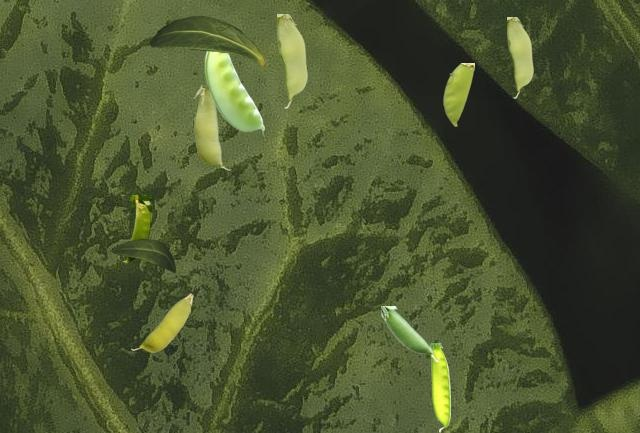pea: (204, 52, 263, 136), (131, 293, 192, 351), (193, 85, 230, 169), (381, 306, 438, 360), (277, 14, 306, 107), (507, 17, 532, 97), (122, 195, 150, 262), (443, 63, 473, 125), (430, 343, 449, 431)
